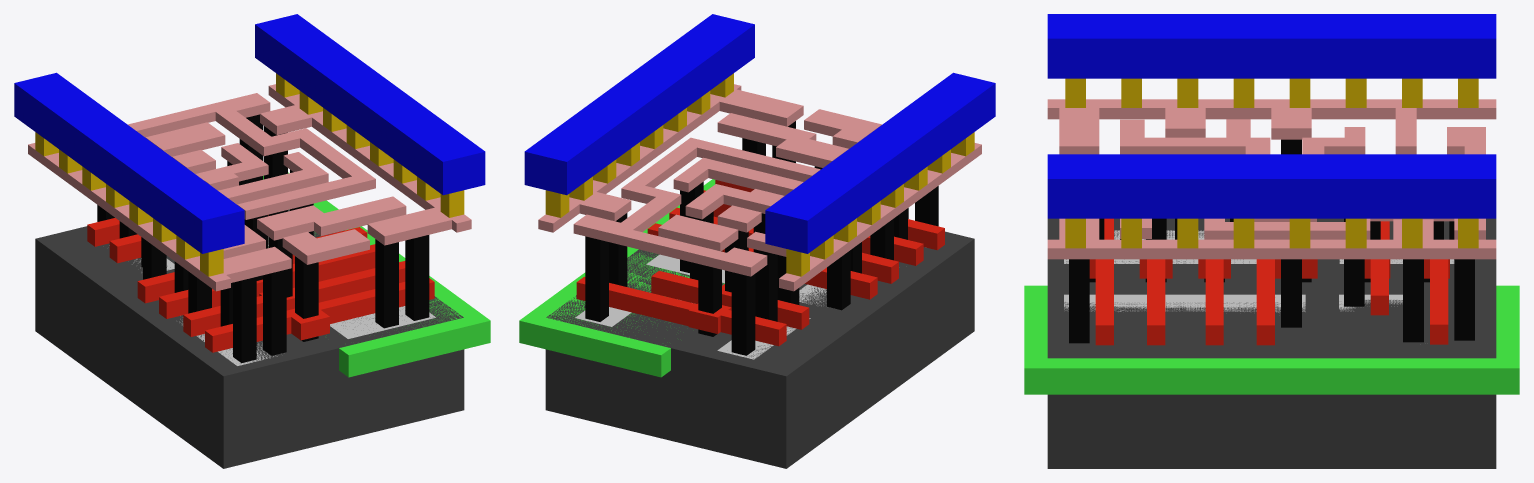
File: sky130_fd_sc_hd__nor4bb_1.obj
The picture shows the model from 3 angles, left to right: view 1: azimuth 30°, elevation 25°; view 2: azimuth 150°, elevation 25°; view 3: azimuth 270°, elevation 25°; orthographic projection. The views are drawn at different scales.
Visible parts, largest first — view 1: subs, metal1, li, licon, poly, nwell, mcon, tap, diff; view 2: subs, metal1, li, licon, poly, nwell, mcon, diff, tap; view 3: subs, metal1, li, nwell, poly, mcon, licon, tap, diff.
Part boxes in pixels (left/top/right/bottom): subs: left=35, top=209, right=464, bottom=468; metal1: left=14, top=14, right=485, bottom=253; li: left=28, top=84, right=471, bottom=291; licon: left=97, top=114, right=429, bottom=363; poly: left=87, top=215, right=434, bottom=352; nwell: left=263, top=172, right=490, bottom=377; mcon: left=35, top=73, right=464, bottom=276; tap: left=268, top=245, right=435, bottom=338; diff: left=109, top=245, right=277, bottom=365; subs: left=545, top=231, right=974, bottom=468; metal1: left=524, top=14, right=995, bottom=253; li: left=538, top=84, right=981, bottom=291; licon: left=585, top=121, right=938, bottom=355; poly: left=576, top=180, right=944, bottom=346; nwell: left=519, top=179, right=724, bottom=377; mcon: left=545, top=73, right=974, bottom=276; diff: left=717, top=284, right=826, bottom=359; tap: left=575, top=254, right=724, bottom=326; subs: left=1047, top=218, right=1496, bottom=468; metal1: left=1047, top=14, right=1496, bottom=218; li: left=1047, top=99, right=1496, bottom=259; nwell: left=1024, top=285, right=1519, bottom=394; poly: left=1089, top=218, right=1449, bottom=345; mcon: left=1065, top=78, right=1478, bottom=248; licon: left=1069, top=139, right=1474, bottom=343; tap: left=1064, top=294, right=1402, bottom=312; diff: left=1064, top=230, right=1454, bottom=263.
Bounding box in the file's own units: 3.2 × 2.74 × 4.06.
